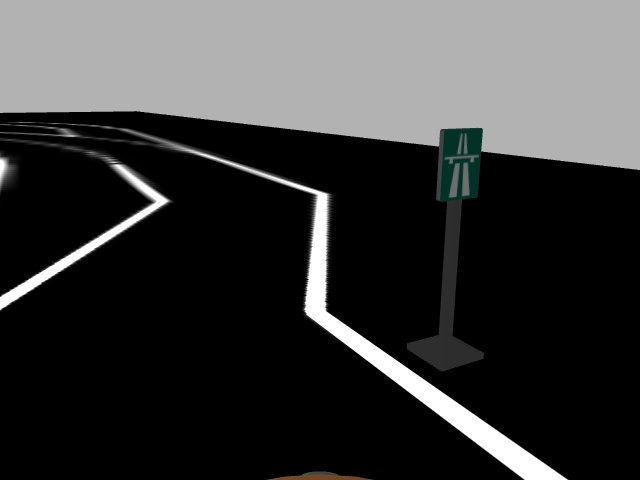enter_highway: (437, 126, 481, 202)
